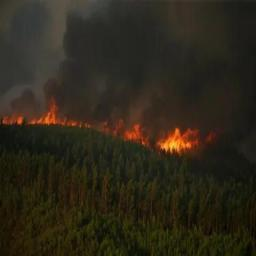Heavy smoke: (3, 0, 255, 101), (210, 103, 255, 158)
Large fire: (1, 104, 206, 152)
